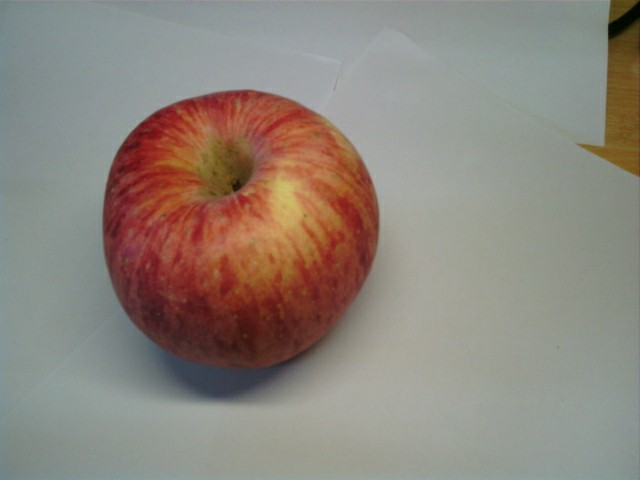normal_apple: (102, 90, 380, 376)
